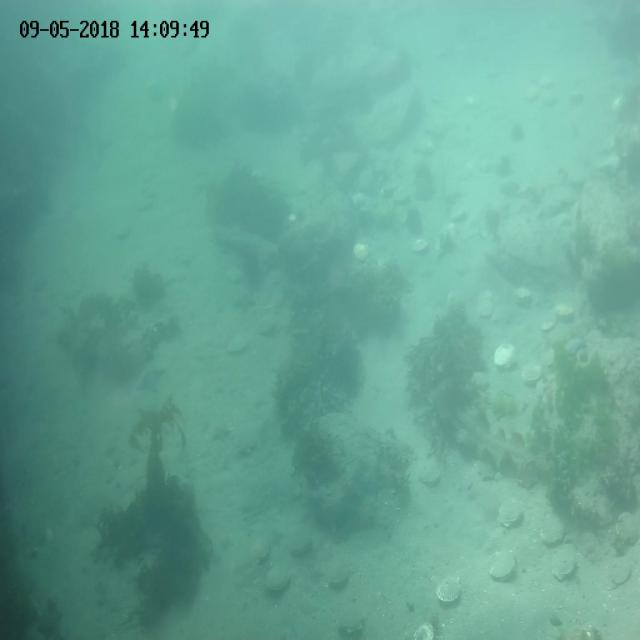scallop: (335, 604, 367, 638), (613, 508, 640, 546), (435, 574, 464, 609), (488, 550, 517, 582), (538, 514, 564, 547), (552, 551, 578, 583), (497, 496, 522, 529), (285, 532, 314, 558), (265, 566, 291, 594), (493, 342, 517, 371), (520, 362, 545, 387), (413, 617, 437, 640), (476, 458, 499, 482), (512, 284, 535, 306), (326, 566, 348, 588), (553, 302, 575, 321), (225, 336, 248, 354), (538, 314, 560, 332), (476, 299, 496, 318), (352, 242, 371, 262), (421, 467, 441, 486), (410, 238, 430, 256)
starfish: (134, 362, 168, 397), (561, 335, 588, 360), (231, 291, 257, 314), (210, 419, 232, 446)
